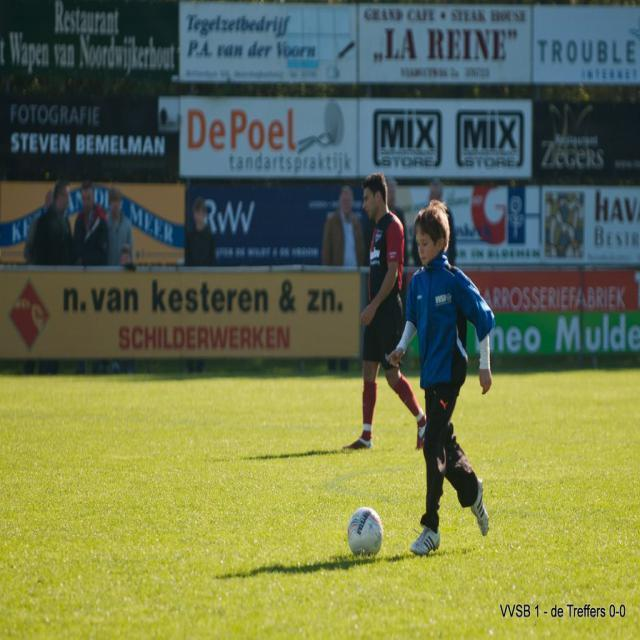football: (333, 505, 392, 560)
